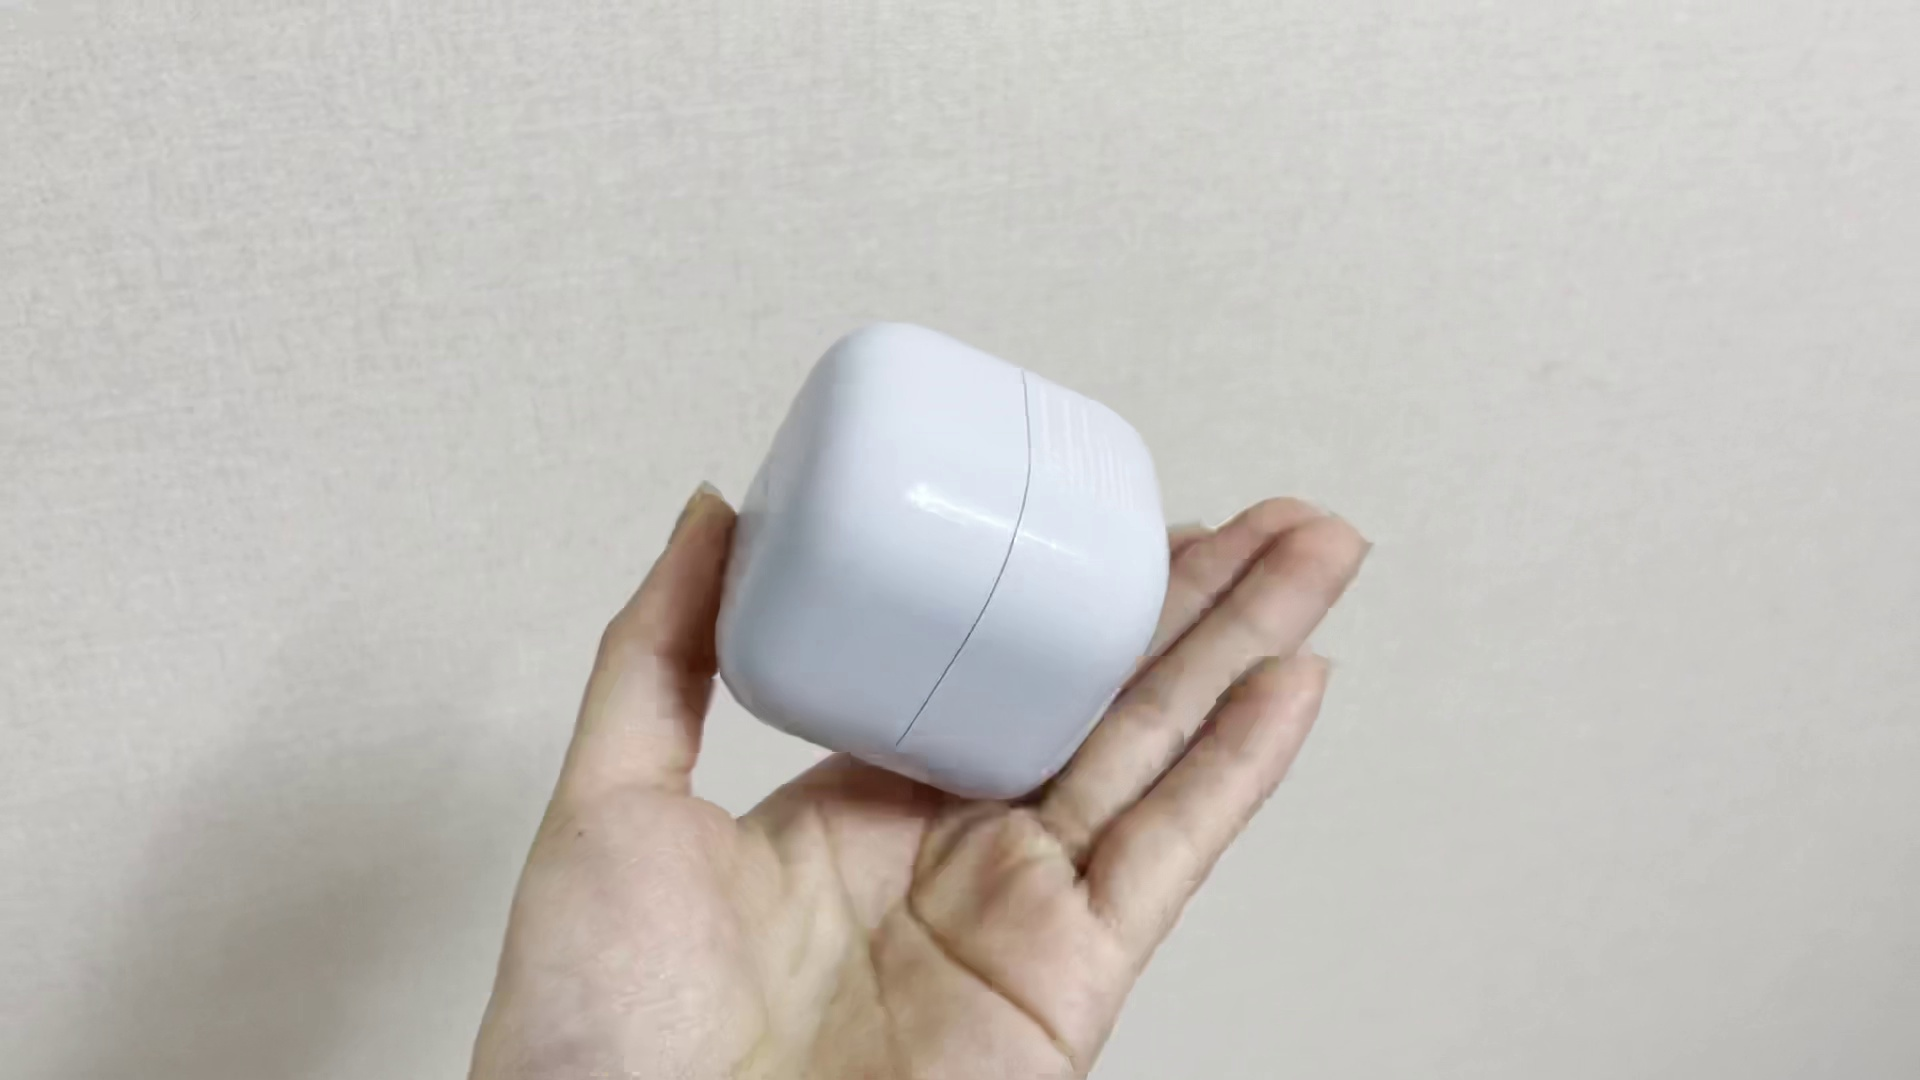cream: (716, 318, 1166, 802)
